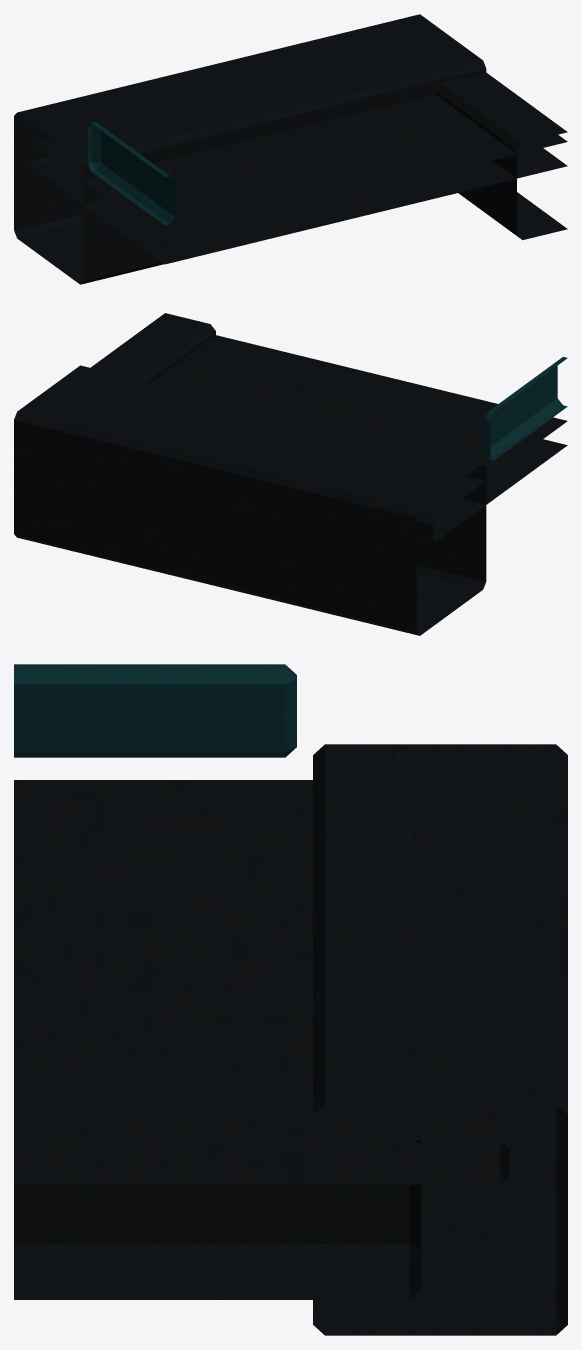
The model's file is cell_2.obj.
3 renders of one model, top to bottom at view 1: azimuth 30°, elevation 25°; view 2: azimuth 150°, elevation 25°; view 3: azimuth 270°, elevation 25°, orthographic. The views are drawn at different scales.
Visible parts, largest first — view 1: cell_2; view 2: cell_2; view 3: cell_2.
Boxes of the visible parts, left/top/right/bottom form: cell_2: left=14, top=14, right=567, bottom=284; cell_2: left=14, top=313, right=567, bottom=635; cell_2: left=14, top=664, right=567, bottom=1335.
Size of the model in its own units: 1 by 0.4025 by 0.65.
